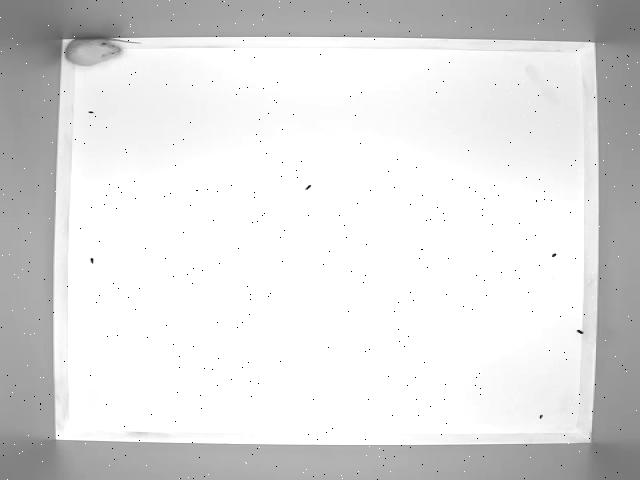Tikus: (60, 33, 142, 68)
